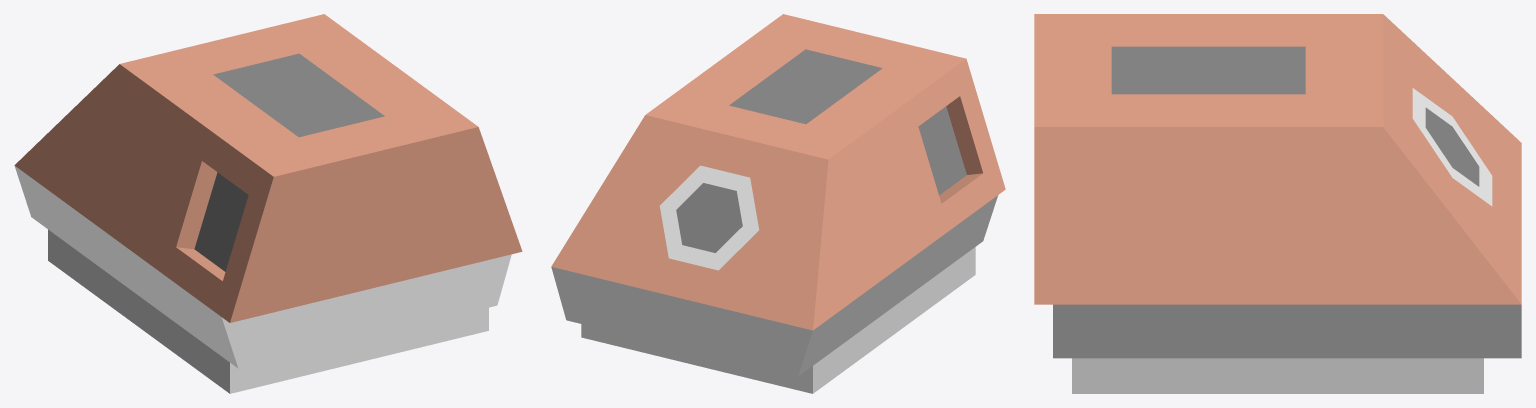
File: robot.glb
The picture shows the model from 3 angles, left to right: view 1: azimuth 30°, elevation 25°; view 2: azimuth 150°, elevation 25°; view 3: azimuth 270°, elevation 25°; orthographic projection. The views are drawn at different scales.
Visible parts, largest first — view 1: robot; view 2: robot; view 3: robot.
Part boxes in pixels (x1,y1,x2,y2): robot: (14,14,522,393); robot: (551,14,1005,393); robot: (1034,14,1521,393).
Bounding box in the file's own units: 2.03 × 1.48 × 2.59.
